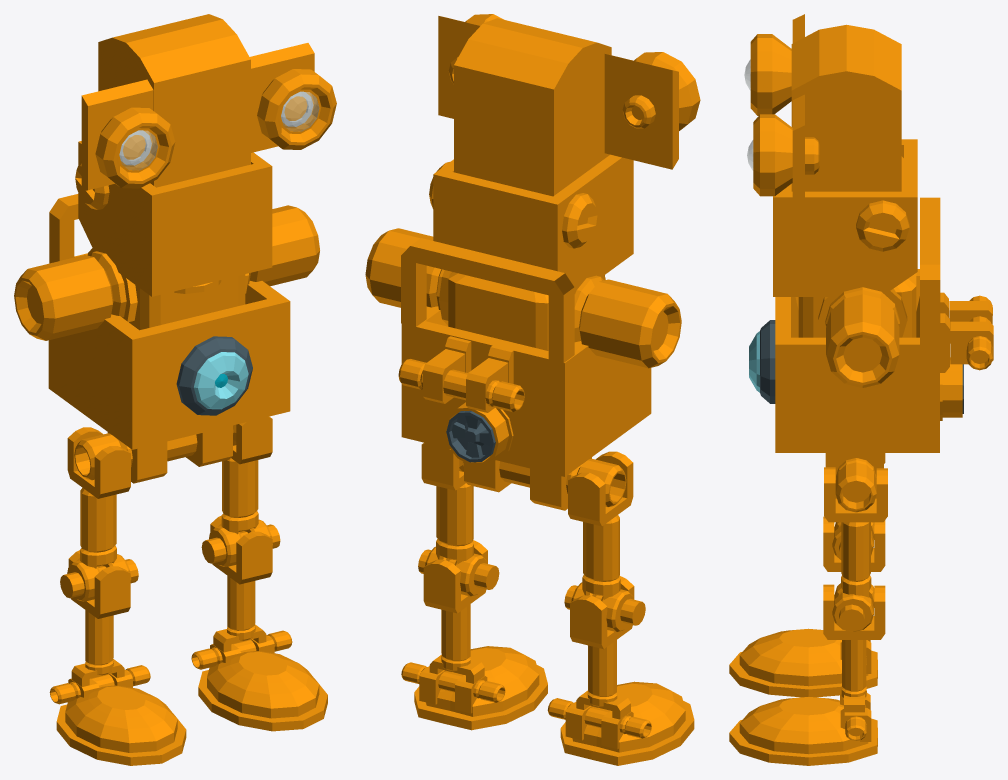
The model's file is PlayerModelV2.FBX.
3 renders of one model, left to right at view 1: azimuth 30°, elevation 25°; view 2: azimuth 150°, elevation 25°; view 3: azimuth 270°, elevation 25°, orthographic. The views are drawn at different scales.
Visible parts, largest first — view 1: FlatHead001, mesh2137837018, LegGroup, LegGroup001, mesh2137837019, mesh2137837021, mesh2137837023; view 2: FlatHead001, mesh2137837018, LegGroup, LegGroup001, mesh2137837019, mesh2137837023, mesh2137837020; view 3: FlatHead001, mesh2137837018, LegGroup001, LegGroup, mesh2137837019, mesh2137837023, mesh2137837021, mesh2137837020.
Boxes of the visible parts, x1,y1,x2,y2 form: FlatHead001: [75, 14, 336, 296]; mesh2137837018: [48, 194, 290, 449]; LegGroup: [49, 427, 186, 765]; LegGroup001: [191, 416, 327, 731]; mesh2137837019: [14, 205, 319, 340]; mesh2137837021: [176, 336, 252, 415]; mesh2137837023: [74, 424, 236, 483]; FlatHead001: [429, 14, 700, 293]; mesh2137837018: [398, 238, 651, 476]; LegGroup: [547, 451, 694, 765]; LegGroup001: [401, 442, 547, 730]; mesh2137837019: [365, 228, 681, 368]; mesh2137837023: [459, 457, 626, 510]; mesh2137837020: [443, 400, 513, 465]; FlatHead001: [744, 14, 917, 296]; mesh2137837018: [775, 197, 993, 452]; LegGroup001: [729, 467, 887, 765]; LegGroup: [729, 516, 885, 697]; mesh2137837019: [818, 287, 907, 387]; mesh2137837023: [825, 453, 885, 512]; mesh2137837021: [749, 320, 775, 403]; mesh2137837020: [940, 357, 963, 420].
Size of the model in its own units: 171 by 397 by 144.
